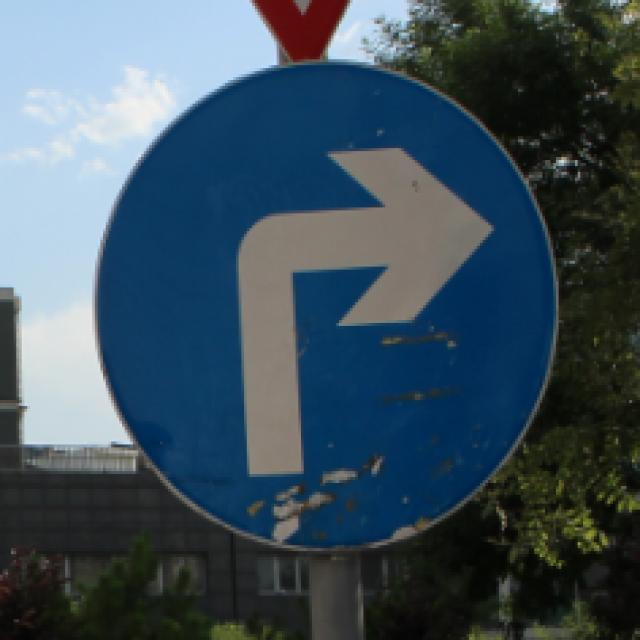Right: (95, 49, 562, 566)
